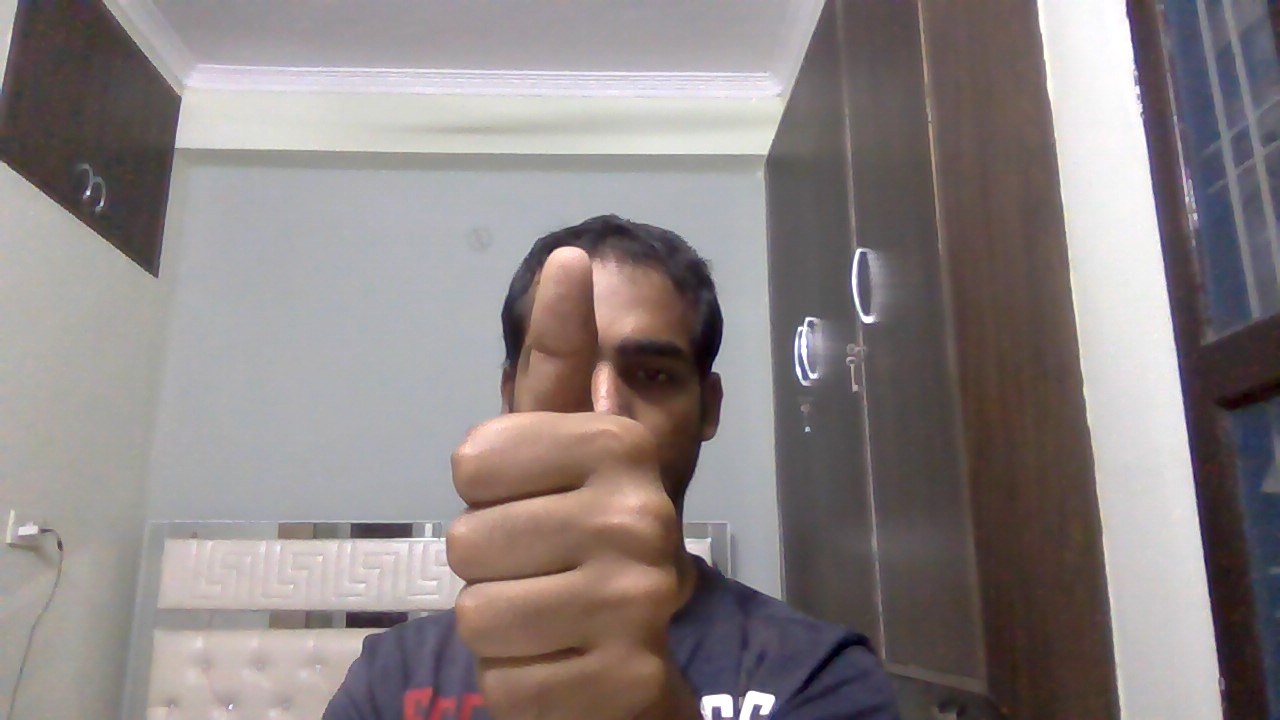Save: (436, 236, 729, 719)
